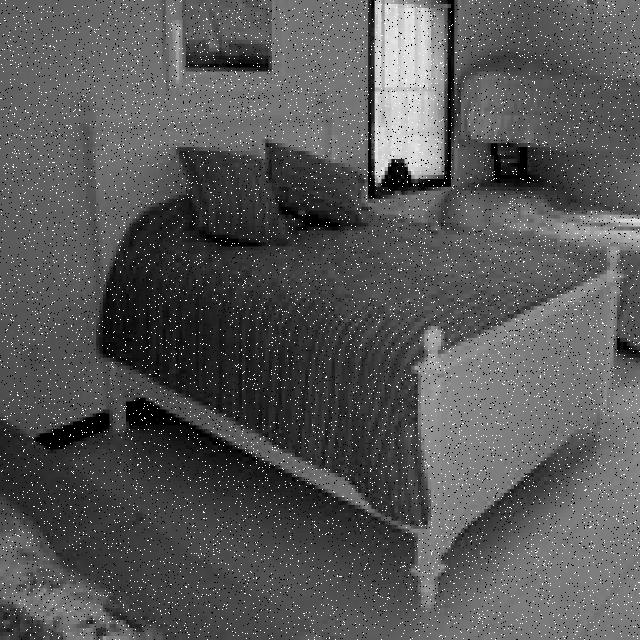bed: (79, 95, 617, 592)
